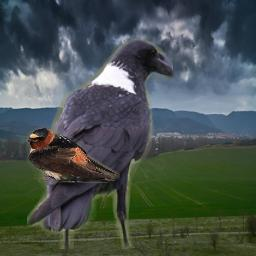Crow: (27, 38, 173, 249)
Swallow: (26, 127, 120, 183)
